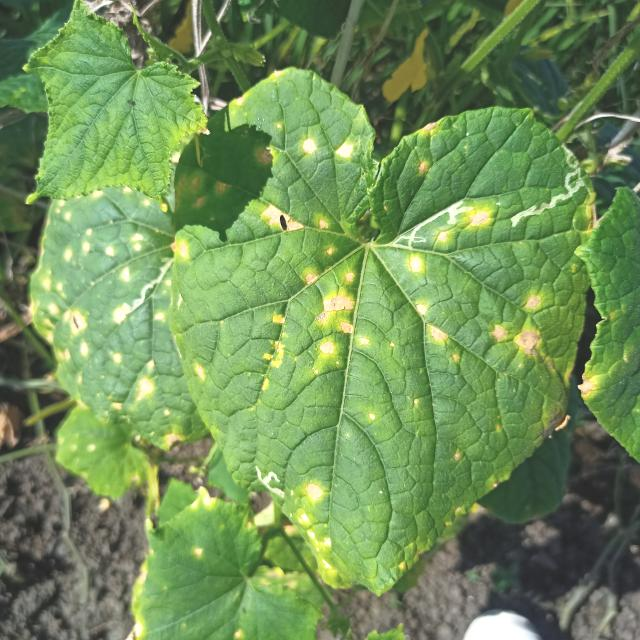disease_cucumber: (173, 108, 599, 414), (37, 192, 174, 429), (296, 480, 334, 556)
